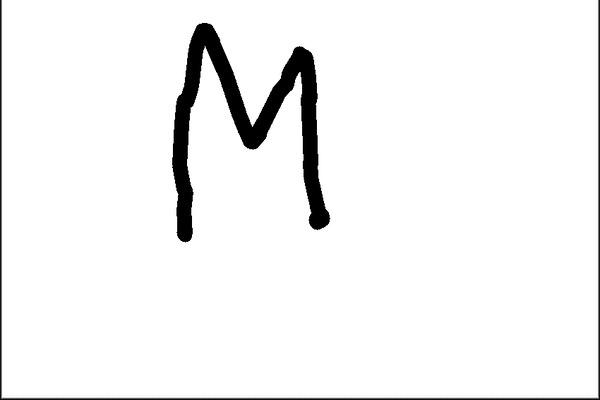M: (169, 19, 332, 240)
